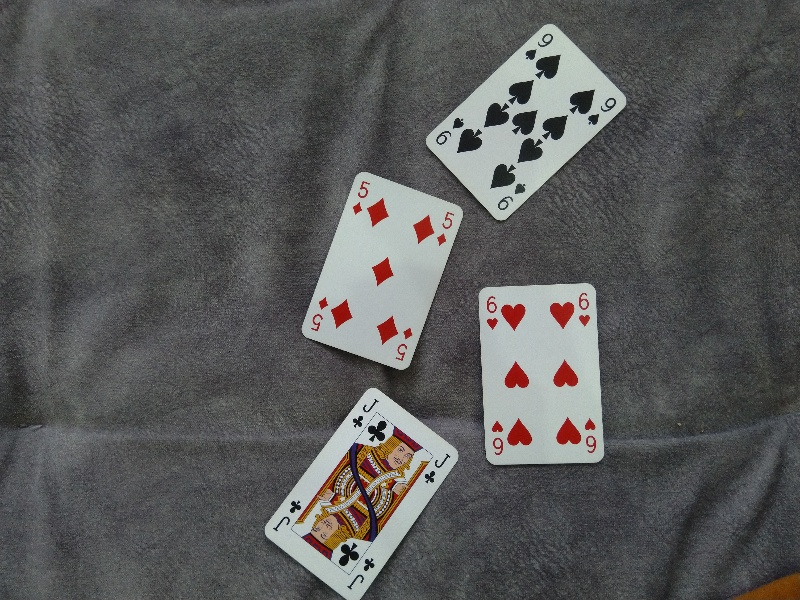5d: (307, 296, 330, 333), (434, 212, 458, 246), (349, 177, 370, 215), (394, 327, 416, 363)
6h: (581, 416, 602, 455), (482, 292, 500, 330), (489, 419, 505, 458), (577, 291, 594, 326)
9s: (493, 182, 531, 213), (435, 114, 466, 147), (585, 96, 618, 126), (523, 31, 555, 61)
Jc: (272, 500, 303, 533), (346, 556, 376, 590), (423, 450, 451, 485), (350, 397, 379, 429)
